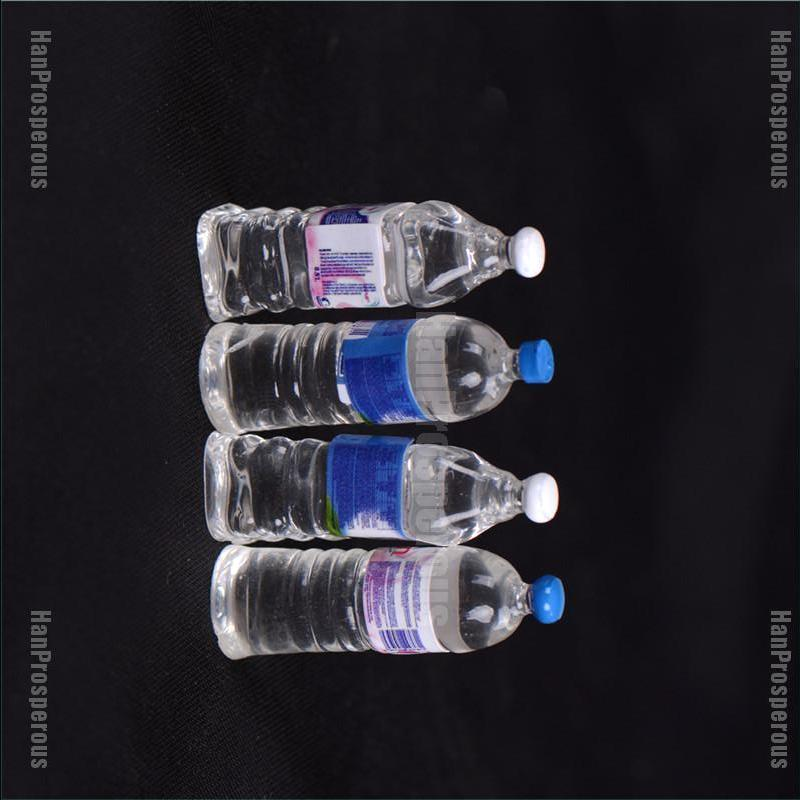bottle: (200, 524, 570, 680), (194, 418, 566, 568), (185, 182, 556, 330), (190, 298, 562, 439)
